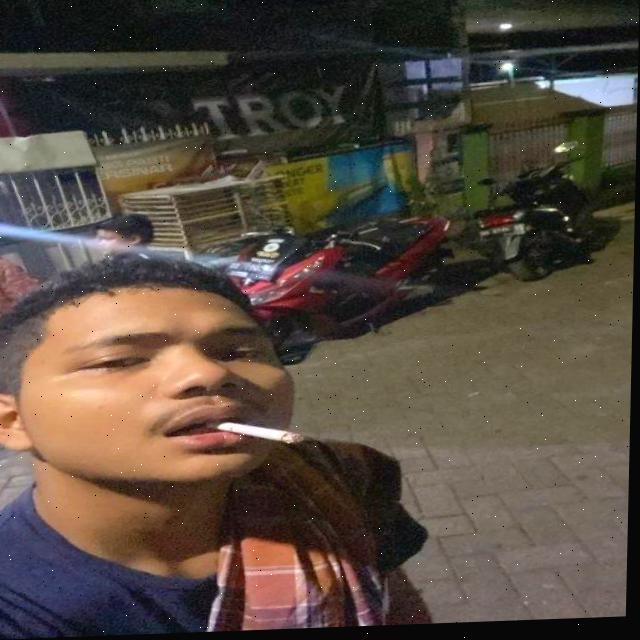cigarette: (209, 422, 302, 449)
